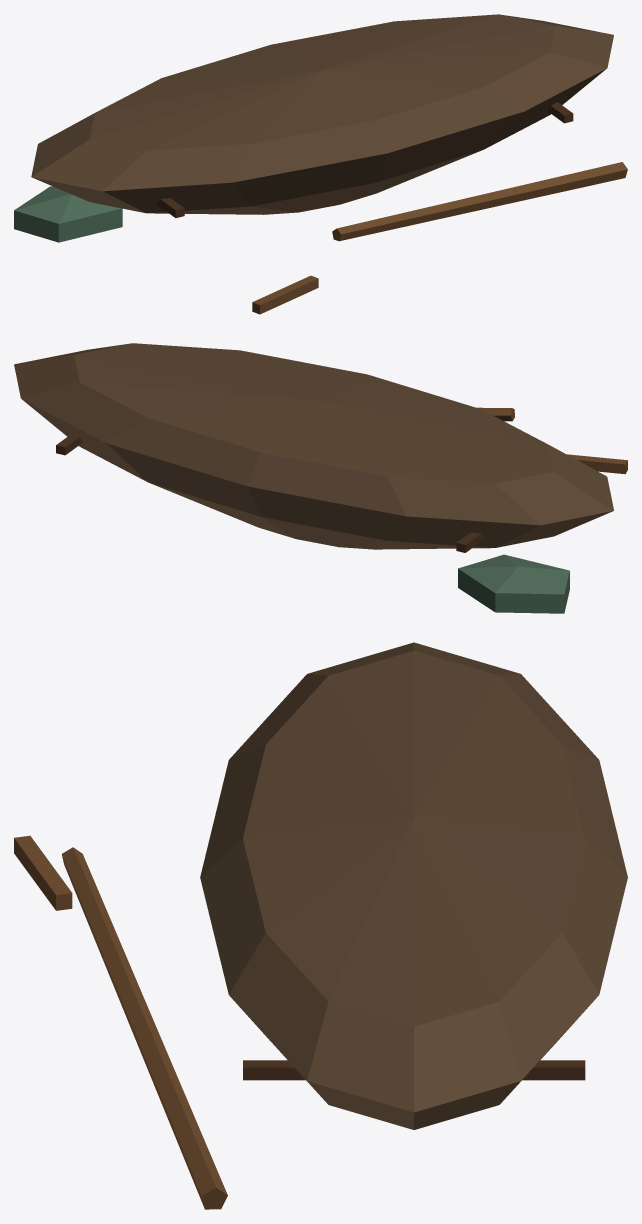
File: br_x_wrecked_boat.glb
3 renders of one model, top to bottom at view 1: azimuth 30°, elevation 25°; view 2: azimuth 150°, elevation 25°; view 3: azimuth 270°, elevation 25°, orthographic. The views are drawn at different scales.
Visible parts, largest first — view 1: br_x_wrecked_boat; view 2: br_x_wrecked_boat; view 3: br_x_wrecked_boat.
Boxes of the visible parts, x1=… form: br_x_wrecked_boat: x1=14, y1=14, x2=627, y2=314; br_x_wrecked_boat: x1=14, y1=343, x2=627, y2=613; br_x_wrecked_boat: x1=14, y1=642, x2=627, y2=1209.
Bounding box in the file's own units: 3.9 × 0.8 × 2.15.
